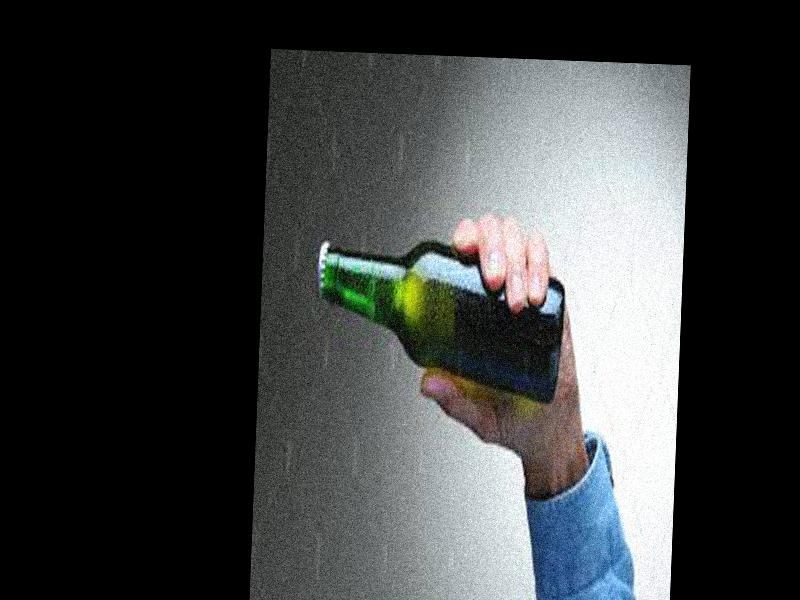Beer: (309, 237, 568, 406)
